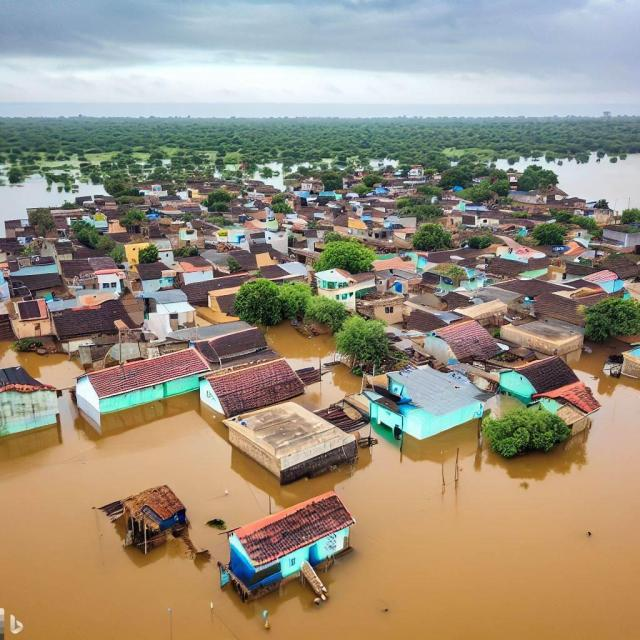flood: (0, 341, 640, 640), (498, 152, 640, 210), (0, 174, 103, 222), (0, 343, 81, 389), (266, 322, 337, 369), (295, 366, 361, 410), (266, 171, 284, 188), (269, 163, 282, 170), (254, 173, 264, 179), (372, 161, 378, 165)
house: (221, 485, 361, 595), (229, 399, 359, 486), (72, 347, 213, 417), (388, 363, 487, 447), (199, 352, 305, 417), (492, 354, 602, 416), (0, 360, 63, 438), (421, 318, 498, 364), (46, 299, 126, 340), (9, 300, 60, 342), (566, 270, 632, 298), (358, 287, 404, 327), (371, 392, 404, 447), (9, 260, 60, 294), (314, 266, 364, 294), (154, 288, 190, 324), (208, 284, 246, 318), (178, 264, 216, 298), (374, 249, 415, 273), (122, 240, 154, 269), (60, 257, 92, 285), (96, 258, 120, 291), (622, 343, 640, 385), (4, 219, 27, 239)
